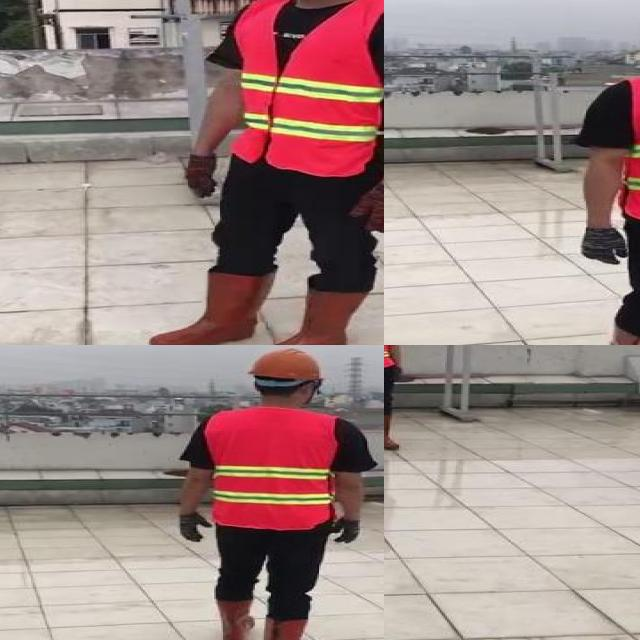boots: (150, 270, 273, 345), (254, 289, 366, 345), (212, 594, 258, 640), (262, 612, 308, 640), (601, 317, 640, 345), (384, 414, 404, 451)
hand_glove: (579, 226, 629, 265), (348, 184, 384, 234), (183, 155, 211, 197), (174, 513, 212, 540), (332, 518, 358, 543), (386, 367, 409, 384)
head_helmet: (244, 345, 324, 385)
person: (138, 0, 384, 345), (168, 345, 378, 640), (567, 0, 640, 345)
vest: (229, 0, 384, 175), (206, 408, 332, 530)
